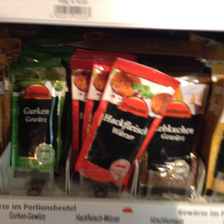spices: (76, 56, 177, 187), (153, 68, 210, 199), (8, 60, 66, 183)
